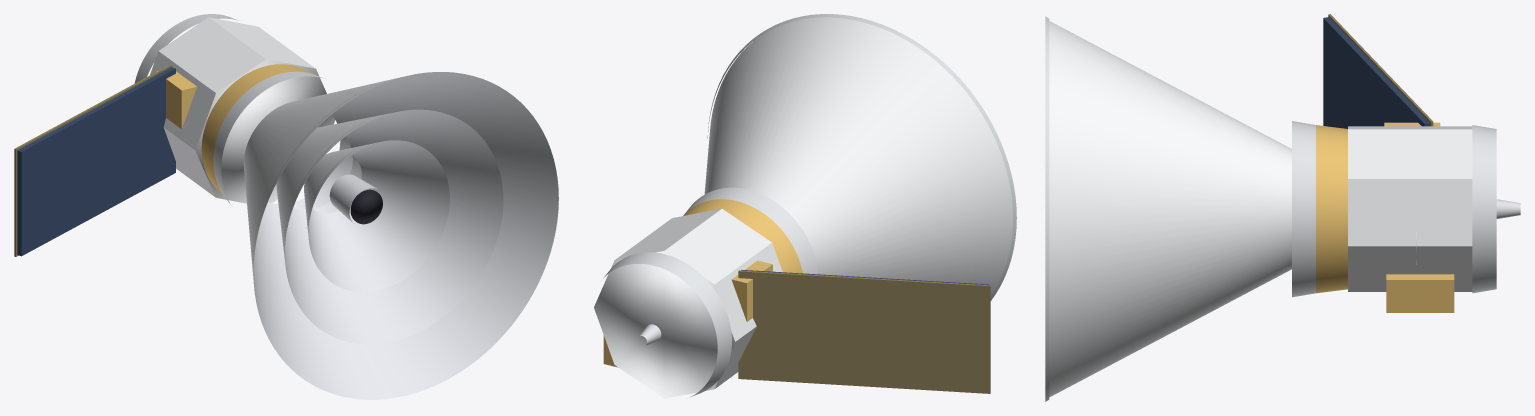
The model's file is spherex.glb.
3 views of the same model, side by side, from view 1: azimuth 30°, elevation 25°; view 2: azimuth 150°, elevation 25°; view 3: azimuth 270°, elevation 25° (orthographic). The views are drawn at different scales.
Visible parts, largest first — view 1: shield_outer_inner, shield_mid_inner, solar_panel, shield_inner_inner, bus, shield_outer, shield_mid, mli_band, deck_ring, shield_inner, avionics_b, sep_ring (+3 smaller); view 2: shield_outer, solar_back, bus, sep_ring, deck_ring, mli_band, shield_outer_rim, avionics_b; view 3: shield_outer, bus, solar_panel, mli_band, deck_ring, sep_ring, avionics_a, shield_outer_rim, solar_back, antenna.
Part boxes in pixels (x1=…): shield_outer_inner: x1=253, y1=72, x2=558, y2=399; shield_mid_inner: x1=284, y1=109, x2=503, y2=344; solar_panel: x1=17, y1=67, x2=175, y2=256; shield_inner_inner: x1=308, y1=140, x2=449, y2=292; bus: x1=149, y1=17, x2=335, y2=203; shield_outer: x1=243, y1=76, x2=403, y2=279; shield_mid: x1=276, y1=112, x2=393, y2=262; mli_band: x1=201, y1=64, x2=314, y2=197; deck_ring: x1=213, y1=71, x2=323, y2=206; shield_inner: x1=304, y1=142, x2=376, y2=236; avionics_b: x1=156, y1=71, x2=196, y2=129; sep_ring: x1=134, y1=14, x2=238, y2=83; shield_outer: x1=704, y1=17, x2=1012, y2=295; solar_back: x1=738, y1=270, x2=990, y2=393; bus: x1=594, y1=208, x2=782, y2=398; sep_ring: x1=603, y1=252, x2=731, y2=397; deck_ring: x1=683, y1=187, x2=818, y2=274; mli_band: x1=683, y1=199, x2=802, y2=273; shield_outer_rim: x1=707, y1=14, x2=1016, y2=300; avionics_b: x1=731, y1=260, x2=772, y2=321; shield_outer: x1=1049, y1=21, x2=1291, y2=397; bus: x1=1348, y1=126, x2=1472, y2=291; solar_panel: x1=1323, y1=17, x2=1430, y2=128; mli_band: x1=1316, y1=125, x2=1347, y2=293; deck_ring: x1=1292, y1=121, x2=1315, y2=297; sep_ring: x1=1472, y1=125, x2=1496, y2=293; avionics_a: x1=1386, y1=274, x2=1454, y2=312; shield_outer_rim: x1=1045, y1=16, x2=1049, y2=401; solar_back: x1=1328, y1=14, x2=1433, y2=126; antenna: x1=1496, y1=199, x2=1520, y2=218.
Bounding box in the file's own units: 2.58 × 1.92 × 2.37.
